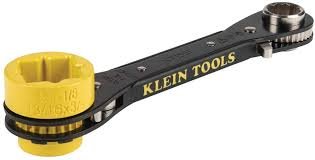Wrench: (3, 2, 315, 151)
